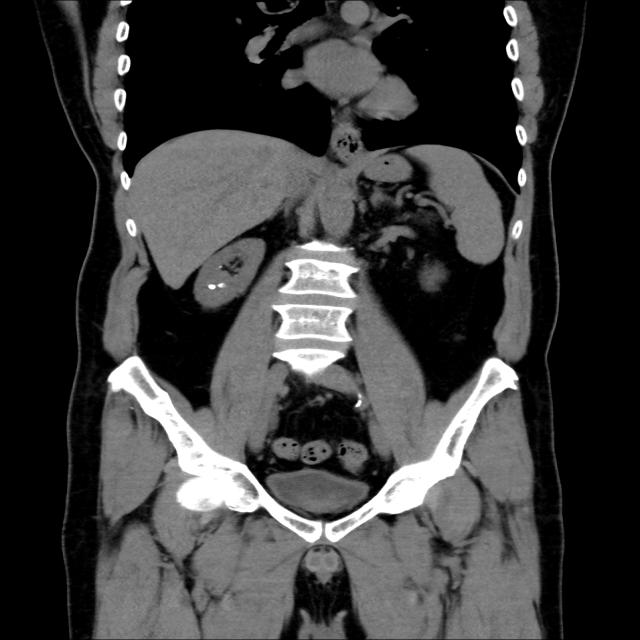kidneystone: (207, 282, 227, 290)
